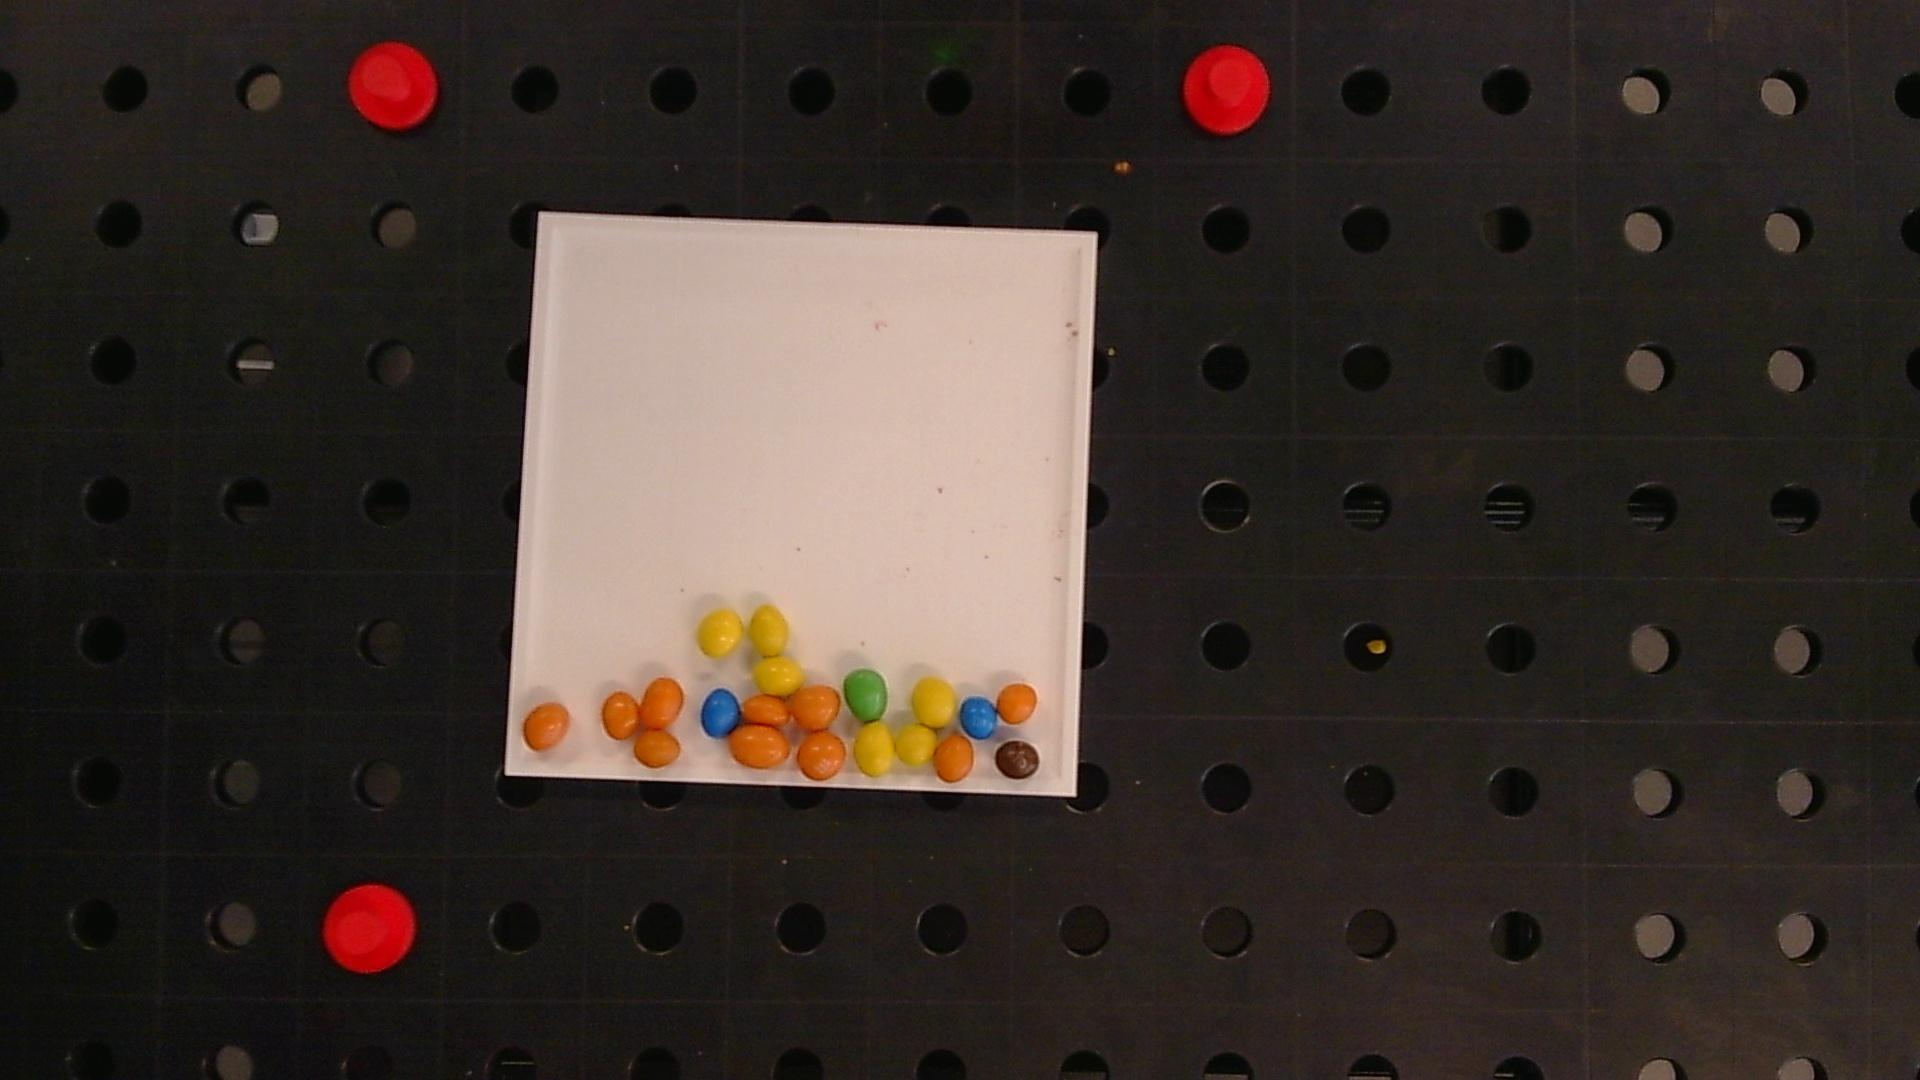blue: (702, 688, 740, 736), (960, 696, 998, 740)
brown: (994, 741, 1040, 779)
green: (844, 669, 887, 720)
orange: (729, 724, 791, 769), (796, 732, 845, 779), (640, 676, 683, 729), (791, 684, 840, 731), (525, 702, 567, 750), (935, 735, 973, 782), (601, 691, 638, 738), (634, 731, 680, 767), (997, 683, 1038, 724), (741, 695, 791, 727)
yellow: (911, 676, 957, 728), (853, 723, 895, 775), (698, 609, 742, 657), (750, 605, 789, 655), (756, 657, 803, 695), (899, 724, 936, 764)
